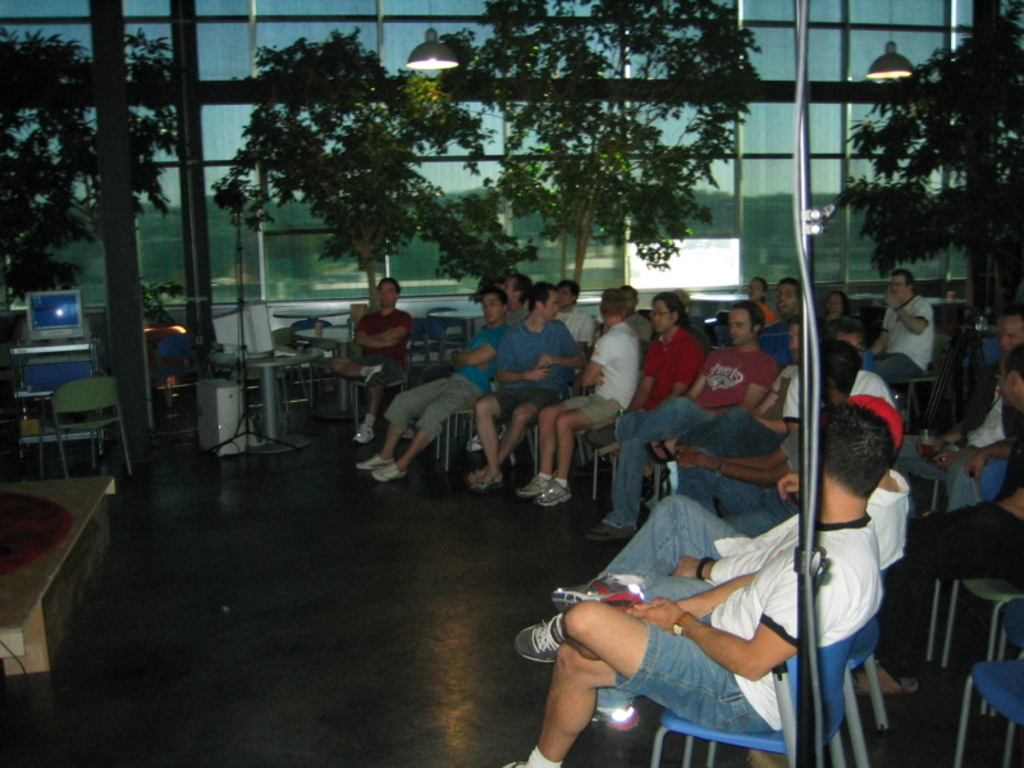Human_hand: (628, 593, 685, 631), (776, 471, 803, 507), (965, 448, 989, 485), (677, 453, 718, 471), (932, 452, 959, 474), (916, 440, 942, 462), (879, 289, 904, 311), (526, 367, 550, 384), (588, 370, 605, 389), (536, 353, 553, 370)
